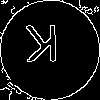K: (25, 25, 59, 71)
